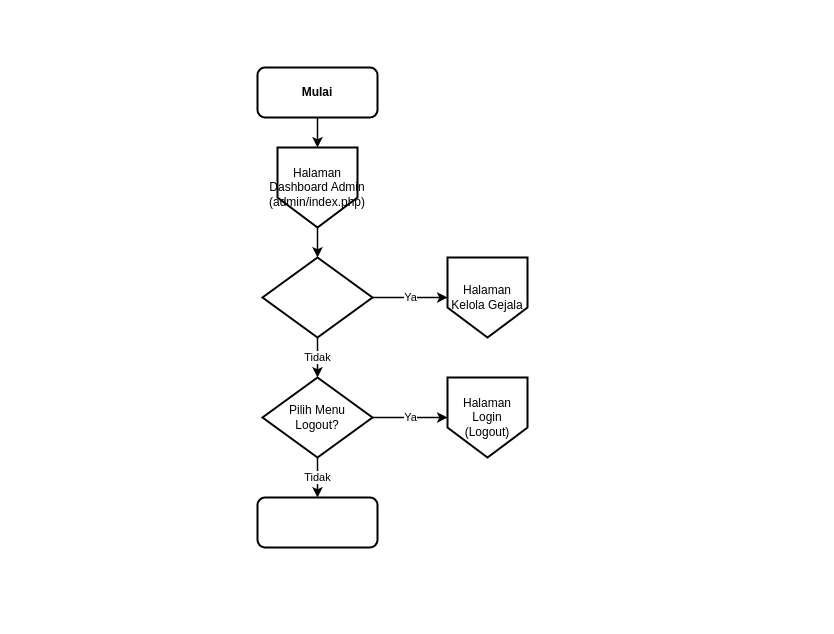
The diagram is 834 pixels wide and 634 high, and some of its shapes have lost their labels. The shapes that lost their labels are listed below. From the top down, each one's box as (x1, y1, x2, y2) in pixels, then its label:
(261, 256, 373, 338): Pilih Menu Kelola Gejala?
(256, 496, 378, 548): Selesai
